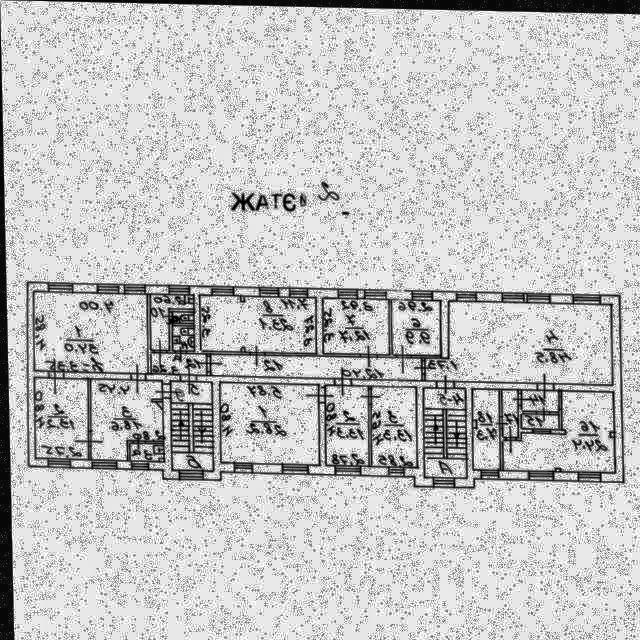room: (424, 299, 612, 382), (30, 291, 148, 372), (501, 387, 614, 470), (217, 381, 319, 462), (197, 294, 316, 352), (88, 378, 161, 460), (209, 353, 420, 378), (32, 376, 87, 460), (421, 385, 465, 476), (168, 380, 211, 470), (368, 383, 415, 465), (321, 296, 389, 352), (323, 383, 367, 465), (390, 297, 440, 354), (149, 293, 193, 349), (470, 386, 498, 468), (149, 352, 205, 374), (520, 387, 557, 409), (501, 387, 517, 435), (127, 442, 162, 460), (171, 324, 192, 350), (520, 412, 557, 426), (171, 311, 193, 322)
